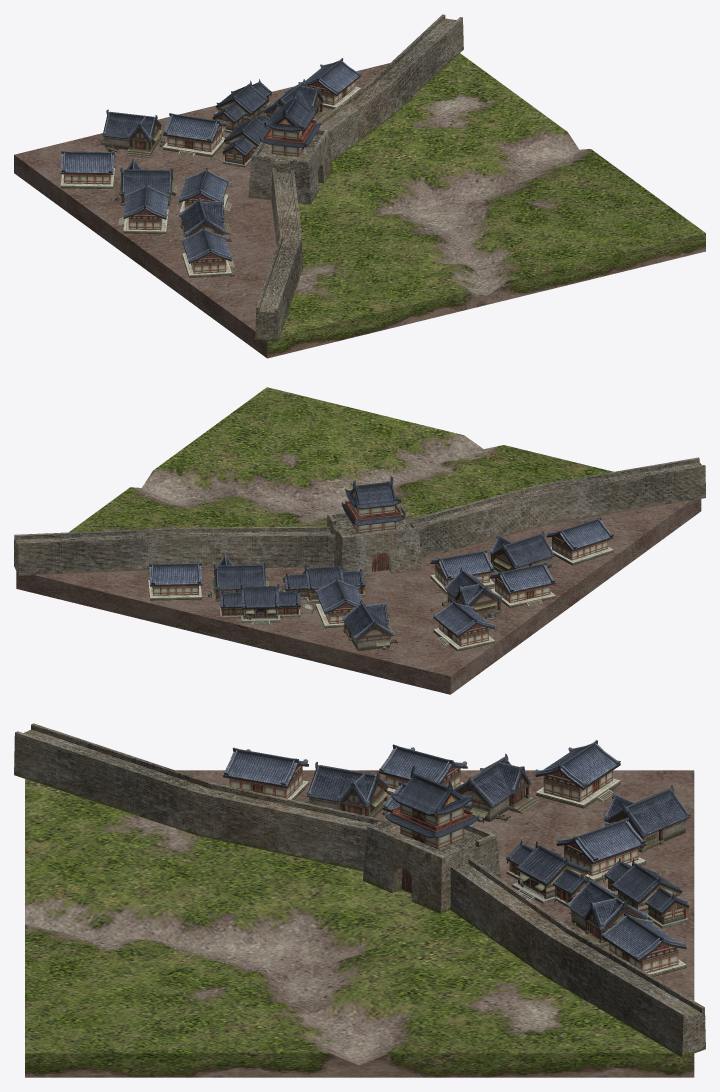
Rendered from map019.FBX.
3 views of the same model, one above another, from view 1: azimuth 30°, elevation 25°; view 2: azimuth 150°, elevation 25°; view 3: azimuth 270°, elevation 25° (orthographic). The views are drawn at different scales.
Parts seen in each view (by area): view 1: map019, house300, Box090, Box089, house294, house282, house314; view 2: map019, Box090, Box089, house300, house294, house282, house314; view 3: map019, Box090, Box089, house300, house294, house282, house314.
Part boxes in pixels (x1,y1,x2,y2): map019: (14,53,705,358); house300: (60,58,361,277); Box090: (248,128,332,341); Box089: (316,14,463,161); house294: (99,79,328,241); house282: (212,79,271,167); house314: (260,92,320,156); map019: (16,387,701,694); Box090: (326,457,705,576); Box089: (14,526,335,575); house300: (148,517,613,651); house294: (208,531,555,650); house282: (219,563,365,624); house314: (341,476,404,532); map019: (25,770,694,1077); Box090: (14,723,500,913); Box089: (450,858,705,1057); house300: (223,740,686,976); house294: (304,753,690,946); house282: (506,840,689,928); house314: (385,765,478,849).
Size of the model in its own units: 103 by 22.49 by 103.
